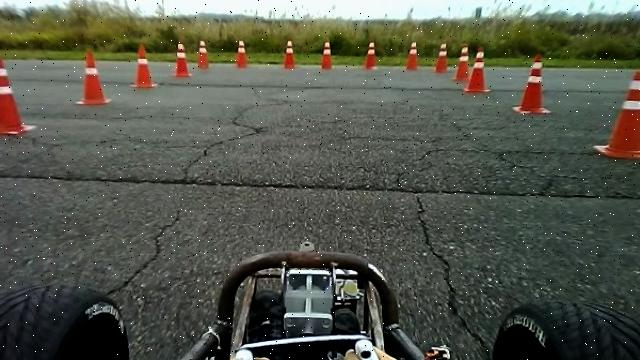red cone: (593, 68, 640, 160), (0, 56, 38, 134), (513, 52, 553, 113), (76, 48, 112, 105), (464, 47, 492, 92), (130, 46, 157, 91), (173, 41, 192, 77), (452, 44, 470, 79), (435, 42, 450, 72), (364, 40, 378, 68), (406, 40, 419, 69), (197, 40, 210, 68), (321, 38, 333, 68), (284, 40, 296, 68), (236, 39, 248, 67)
